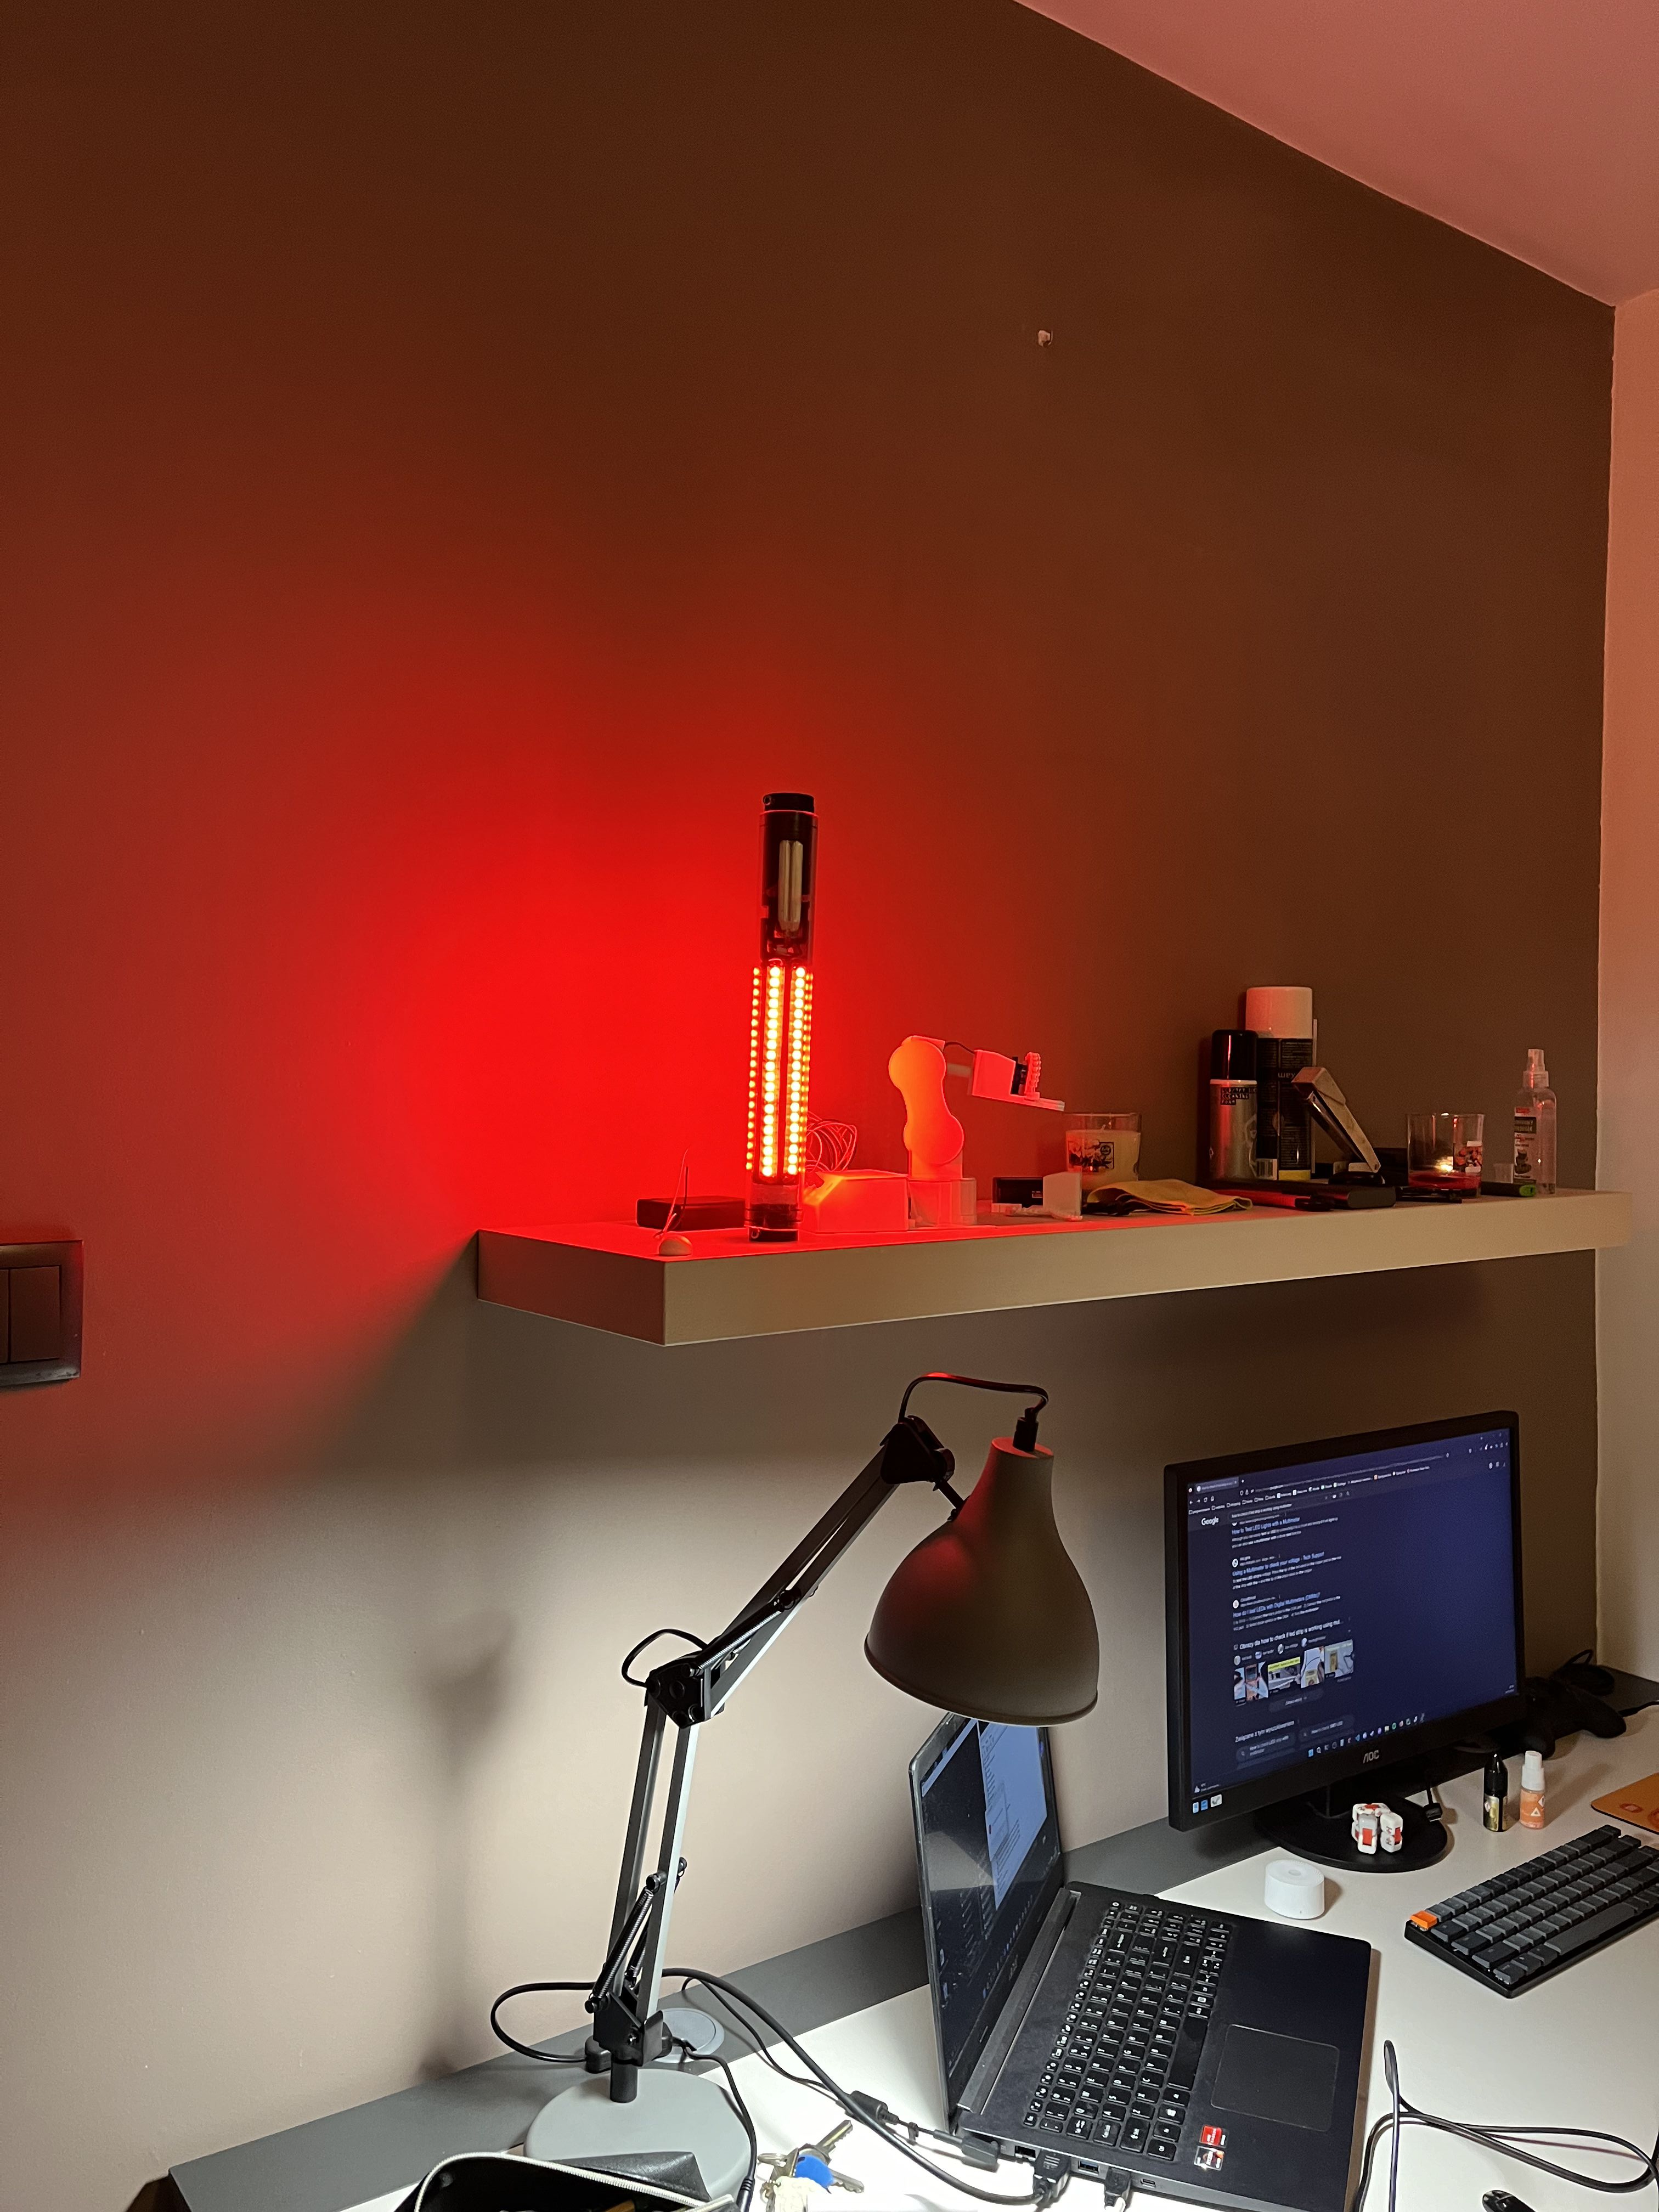red: (753, 810, 817, 1242)
